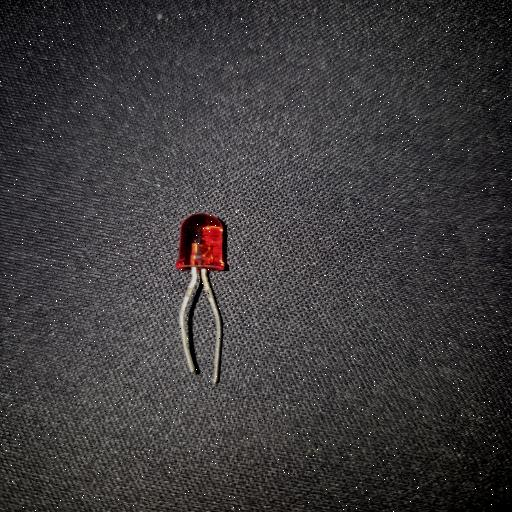led-diode: (174, 213, 233, 389)
